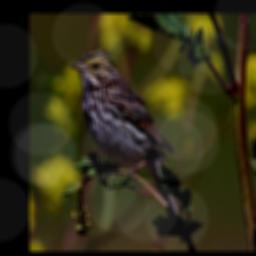Sparrow: (69, 45, 185, 217)
